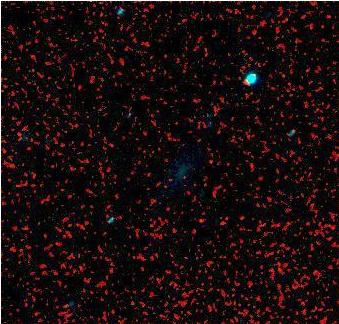star: (184, 205, 214, 235)
